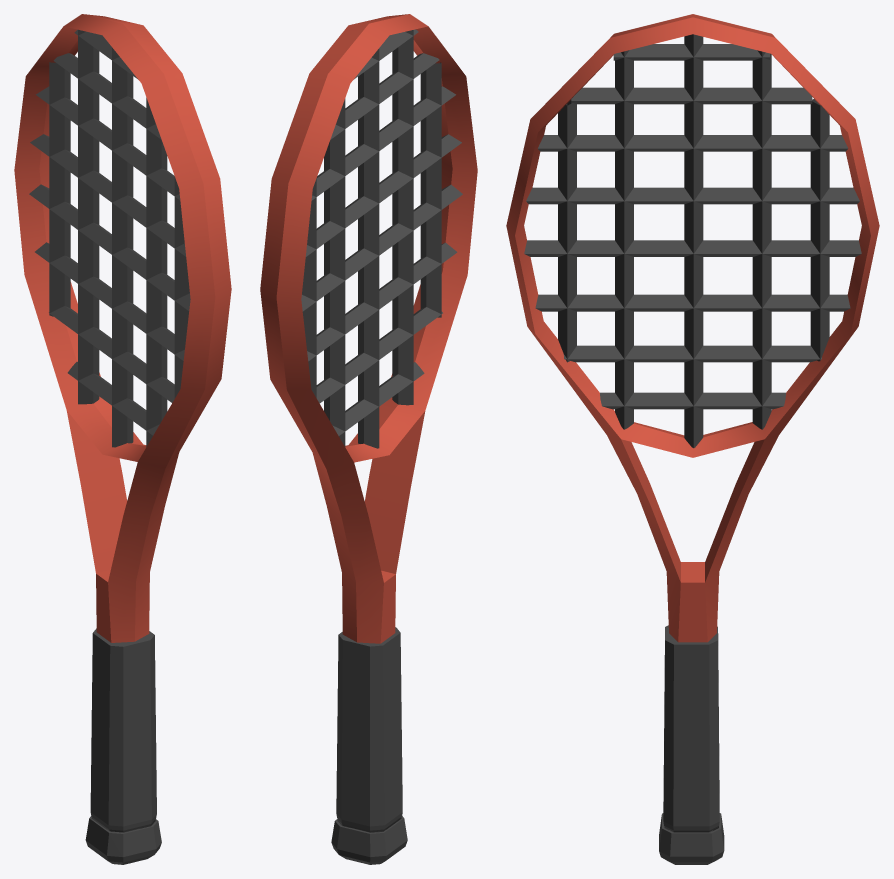
The model's file is Raquette_Rouge.fbx.
3 views of the same model, side by side, from view 1: azimuth 30°, elevation 25°; view 2: azimuth 150°, elevation 25°; view 3: azimuth 270°, elevation 25° (orthographic).
Parts seen in each view (by area): view 1: Raquette_Rouge; view 2: Raquette_Rouge; view 3: Raquette_Rouge.
Part boxes in pixels (box(x1,y1,x2,y2)): Raquette_Rouge: box(14, 14, 231, 864); Raquette_Rouge: box(260, 14, 477, 864); Raquette_Rouge: box(506, 14, 879, 864).
Size of the model in its own units: 6.79 by 97.67 by 39.43.
1 material, 1 textured.
